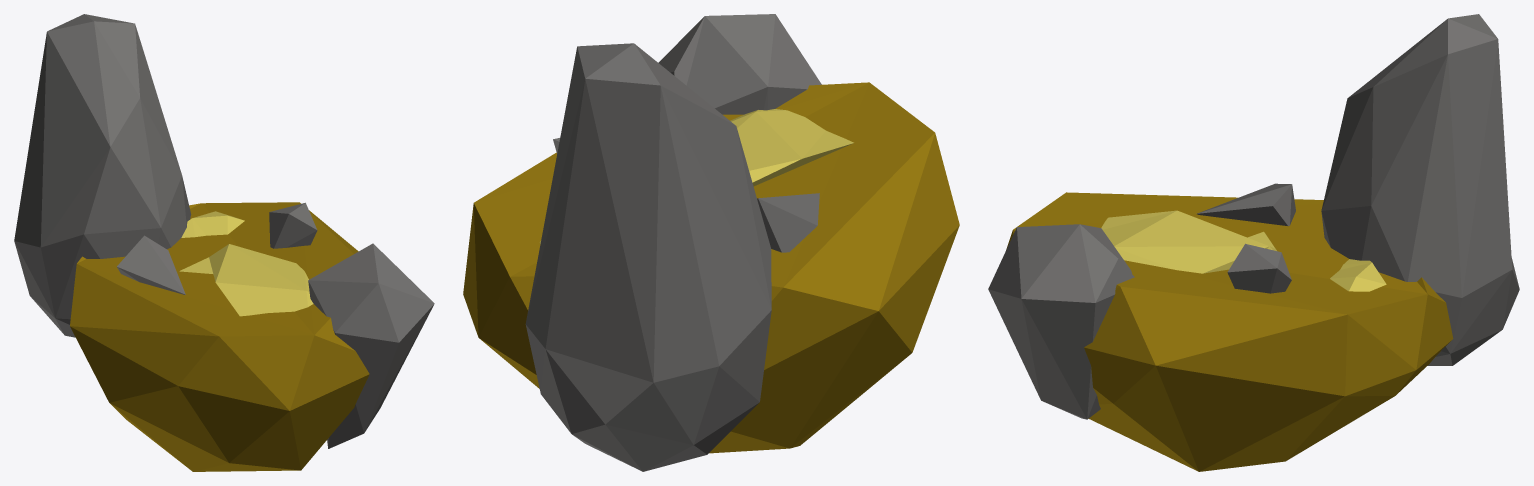
Rendered from Big_Island_2.fbx.
3 views of the same model, side by side, from view 1: azimuth 30°, elevation 25°; view 2: azimuth 150°, elevation 25°; view 3: azimuth 270°, elevation 25° (orthographic). The views are drawn at different scales.
Parts seen in each view (by area): view 1: Island; view 2: Island; view 3: Island.
Boxes of the visible parts, bbox=[...] form: Island: bbox=[14, 14, 434, 471]; Island: bbox=[463, 14, 959, 471]; Island: bbox=[988, 14, 1519, 471].
Bounding box in the file's own units: 1204 × 1487 × 1746.
